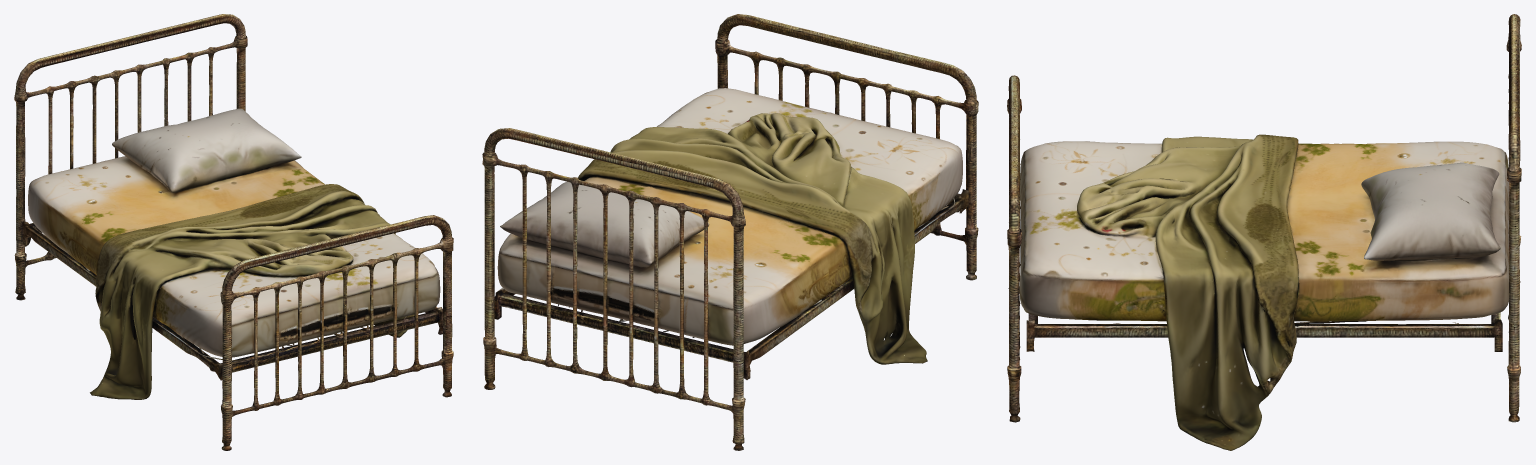
Rendered from base_basic_pbr.fbx.
The picture shows the model from 3 angles, left to right: view 1: azimuth 30°, elevation 25°; view 2: azimuth 150°, elevation 25°; view 3: azimuth 270°, elevation 25°; orthographic projection. The views are drawn at different scales.
Visible parts, largest first — view 1: model; view 2: model; view 3: model.
Part boxes in pixels (x1=…): model: x1=14, y1=14, x2=453, y2=450; model: x1=482, y1=14, x2=978, y2=450; model: x1=1007, y1=14, x2=1521, y2=450.
Size of the model in its own units: 166 by 114 by 188.
Materials: 1 (1 with a texture image).
